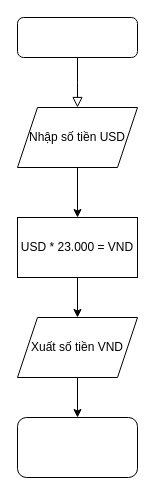
Image size: 155x495. Some labels were removed from this diagram. The shapes that lost their labels are listed below. From the top down, each one's box as (x1, y1, x2, y2) in pixels, then its label:
(16, 16, 138, 58): Start
(16, 416, 138, 478): End
